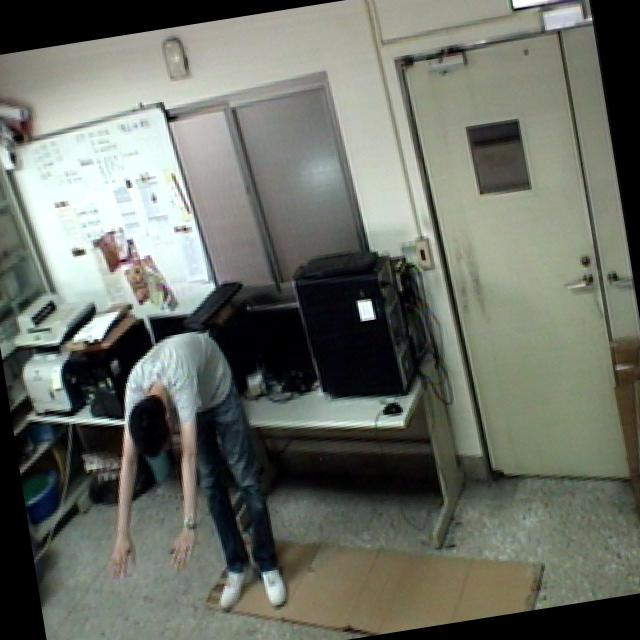bend: (67, 310, 294, 639)
